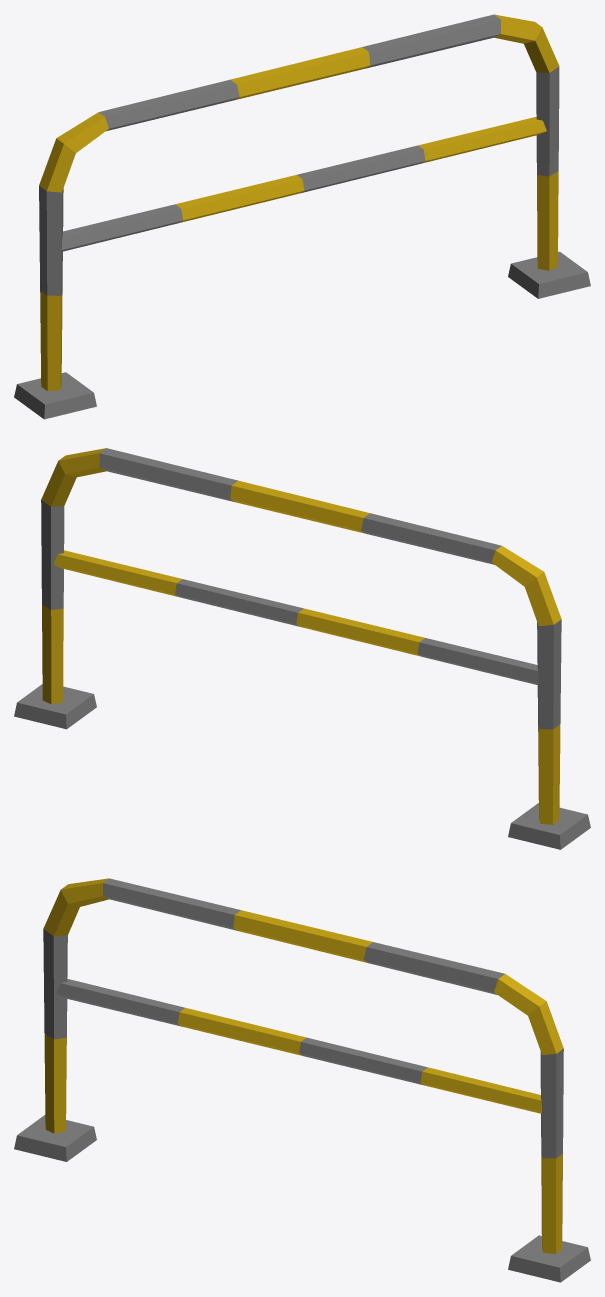
File: SM_fence_04.fbx
3 renders of one model, top to bottom at view 1: azimuth 30°, elevation 25°; view 2: azimuth 150°, elevation 25°; view 3: azimuth 330°, elevation 25°, orthographic.
Parts seen in each view (by area): view 1: Line009; view 2: Line009; view 3: Line009.
Boxes of the visible parts, x1,y1,x2,y2 form: Line009: (14, 14, 590, 419); Line009: (14, 448, 590, 849); Line009: (14, 878, 590, 1282).
Size of the model in its own units: 77.84 by 37.41 by 7.46.
